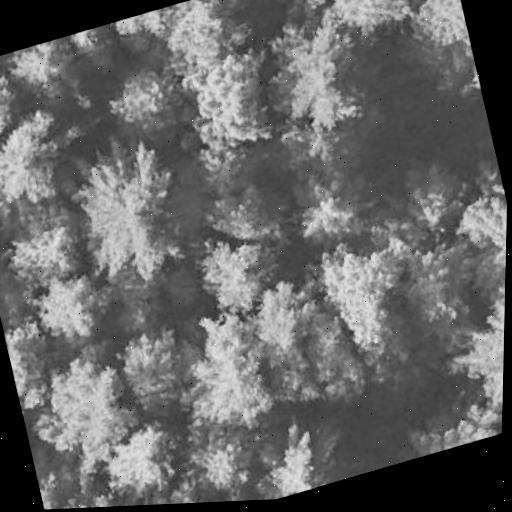tree-top: (57, 135, 204, 297), (245, 253, 378, 424), (242, 0, 389, 151), (299, 217, 427, 377), (166, 303, 285, 448), (20, 340, 147, 475), (167, 35, 292, 172), (179, 148, 292, 265), (399, 214, 495, 342), (106, 312, 212, 427), (96, 44, 208, 152), (0, 89, 91, 215), (250, 403, 367, 500), (185, 218, 289, 324), (0, 194, 96, 300), (20, 256, 118, 357), (442, 180, 507, 315), (440, 284, 505, 418), (279, 172, 379, 256), (393, 387, 503, 463), (0, 305, 71, 422), (94, 412, 180, 499), (391, 160, 480, 244), (186, 419, 269, 503), (153, 0, 241, 71), (290, 108, 373, 183), (5, 35, 81, 100), (400, 0, 473, 65), (315, 0, 423, 40), (117, 470, 206, 506), (0, 58, 28, 150), (60, 24, 113, 66), (46, 492, 132, 509), (261, 0, 333, 18), (205, 482, 263, 502)
